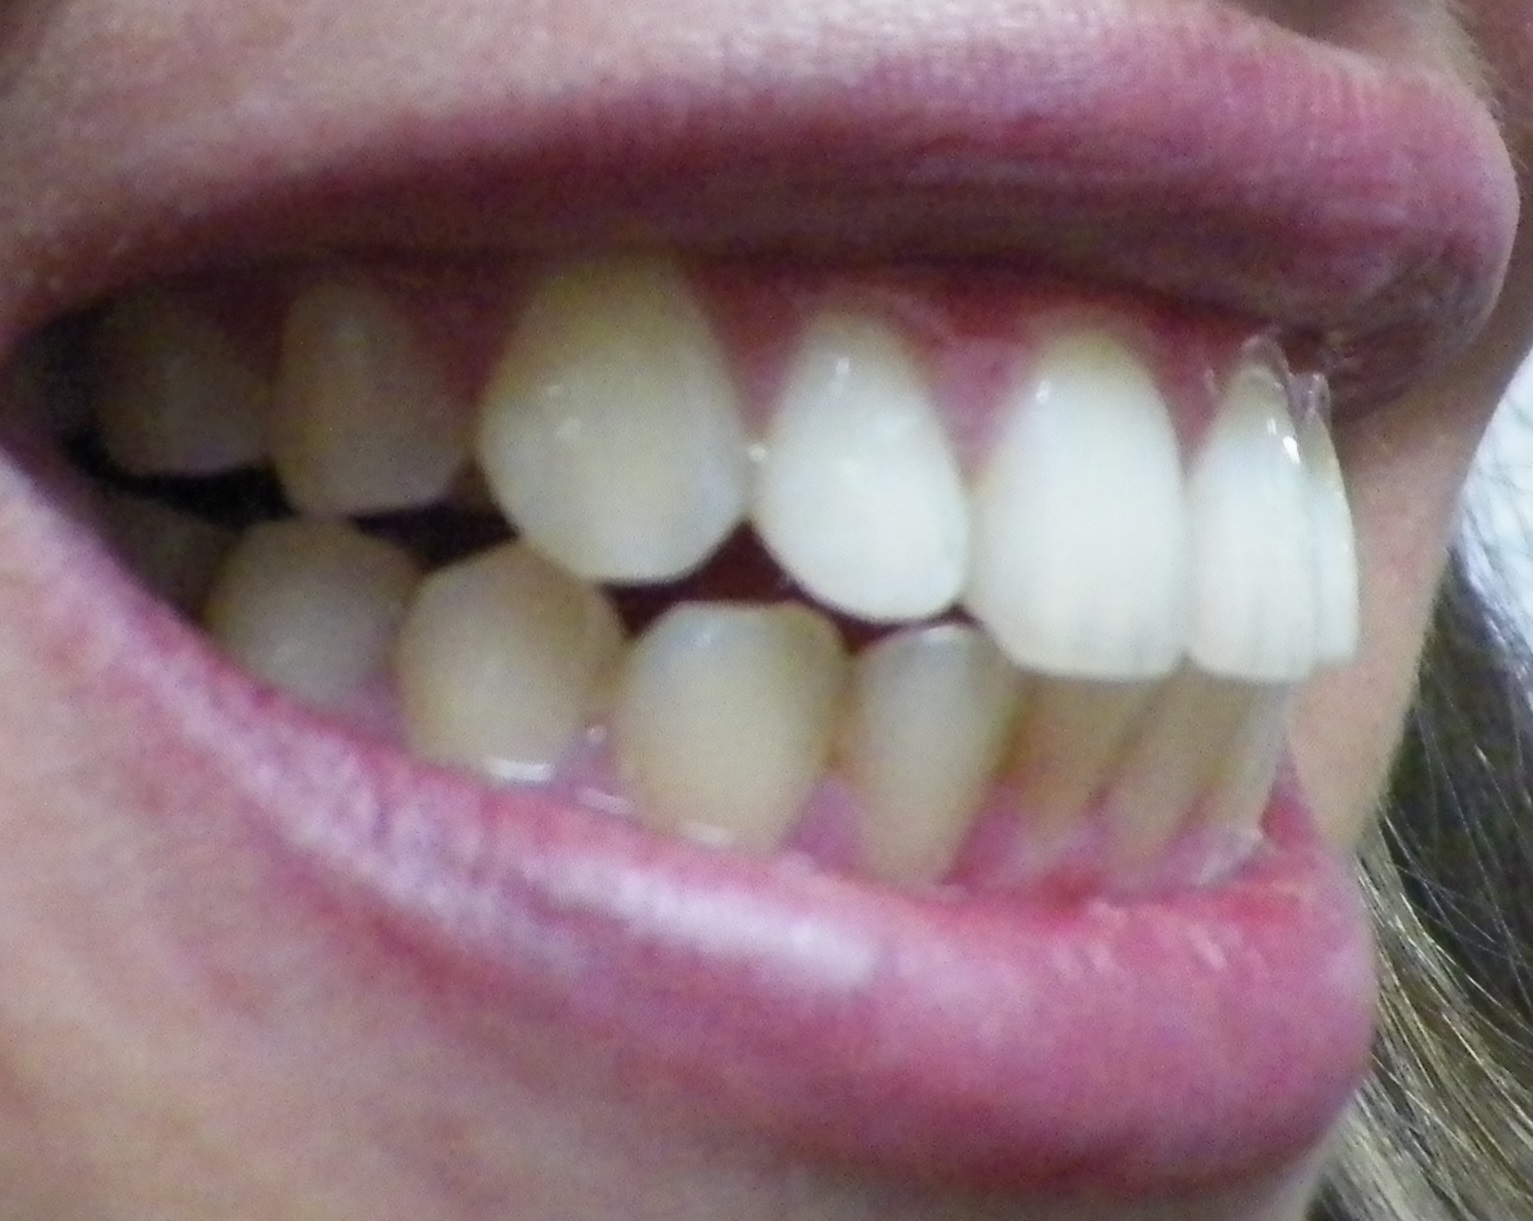boca: (93, 283, 1362, 892)
